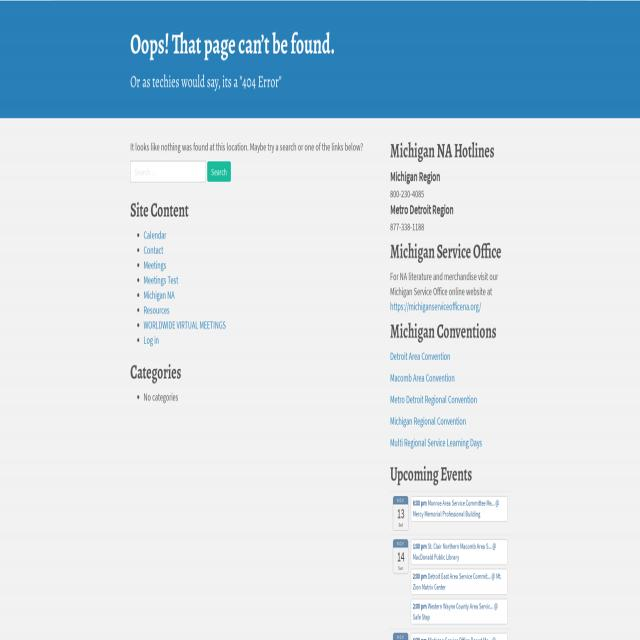button: (410, 496, 508, 522), (410, 539, 508, 565), (410, 569, 508, 595), (410, 598, 508, 624), (393, 539, 409, 574), (393, 496, 409, 530), (207, 161, 231, 182)
field: (130, 161, 206, 182)
